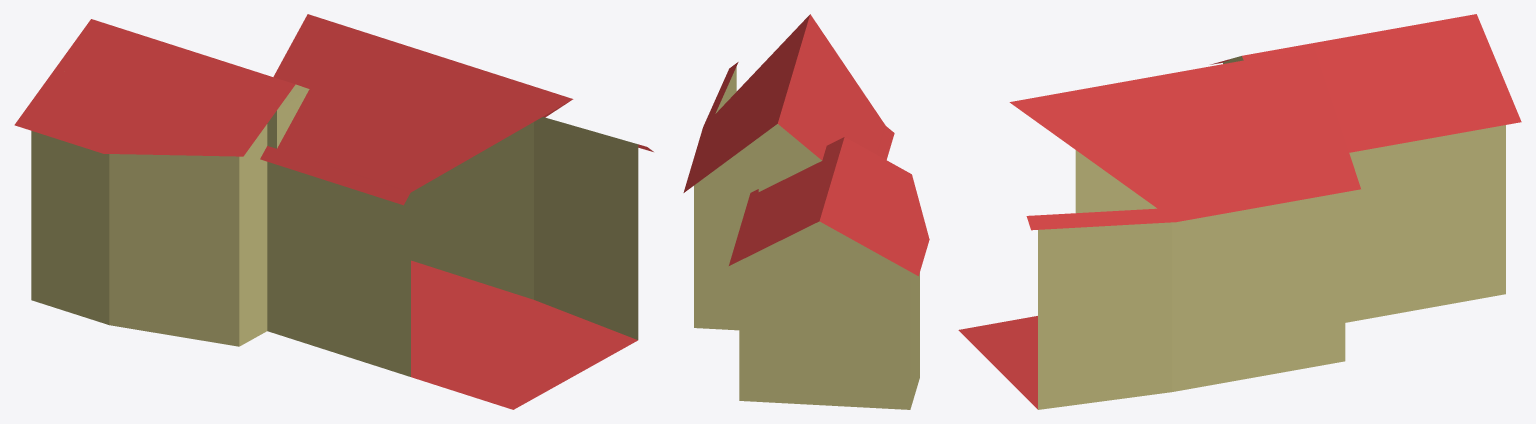
3 views of the same model, side by side, from view 1: azimuth 30°, elevation 25°; view 2: azimuth 150°, elevation 25°; view 3: azimuth 270°, elevation 25° (orthographic). The views are drawn at different scales.
Bounding box in the file's own units: 20.92 × 23.3 × 12.29.
